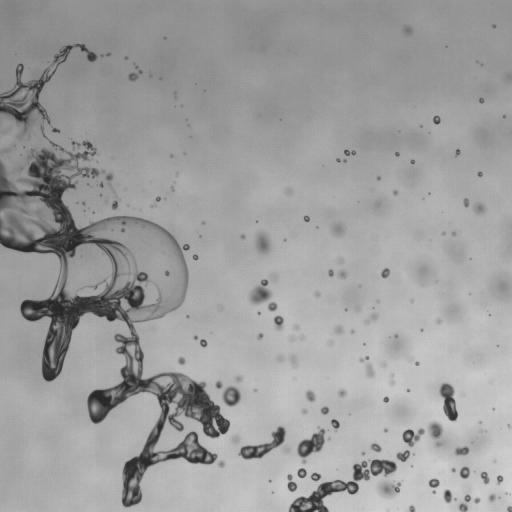droplet: (402, 421, 443, 446), (248, 279, 272, 305), (377, 479, 401, 498), (222, 386, 240, 406), (255, 231, 271, 253), (331, 222, 345, 237), (443, 489, 456, 503), (396, 450, 410, 461), (473, 202, 485, 214), (274, 315, 283, 330), (454, 446, 469, 455), (366, 363, 375, 377), (459, 466, 469, 478), (305, 390, 315, 401), (428, 478, 439, 488), (370, 443, 381, 452), (480, 472, 489, 483), (105, 173, 113, 185), (331, 419, 339, 431), (381, 268, 390, 278), (267, 302, 277, 311), (290, 355, 297, 367), (297, 468, 306, 477), (311, 473, 321, 481), (334, 325, 343, 333), (338, 270, 346, 278), (338, 389, 346, 397), (321, 406, 329, 414), (433, 115, 440, 124), (496, 475, 503, 484), (404, 26, 411, 34), (270, 273, 277, 281), (231, 435, 239, 442), (283, 445, 290, 453), (488, 494, 496, 501), (463, 198, 469, 207), (200, 339, 207, 346), (178, 357, 185, 364), (215, 381, 222, 388), (218, 460, 225, 467), (407, 505, 415, 511), (236, 375, 242, 382), (286, 188, 292, 194), (293, 324, 299, 330), (257, 333, 263, 339), (289, 335, 295, 341), (474, 497, 480, 503), (328, 269, 333, 276), (477, 171, 482, 177), (304, 215, 309, 221), (314, 292, 320, 297), (277, 355, 282, 361), (383, 396, 388, 402), (301, 409, 307, 414), (52, 128, 59, 132), (456, 149, 460, 156), (155, 196, 160, 201), (193, 254, 198, 259), (338, 258, 343, 263), (436, 318, 441, 323), (393, 190, 397, 195), (241, 234, 245, 239), (507, 506, 511, 511), (479, 98, 483, 102), (11, 145, 15, 149), (395, 152, 399, 156), (336, 158, 340, 162), (99, 183, 103, 187), (415, 361, 419, 365), (381, 363, 385, 367), (451, 468, 455, 472), (151, 204, 156, 207), (410, 160, 414, 163), (507, 425, 511, 428), (384, 428, 387, 432), (171, 187, 174, 190), (442, 232, 445, 235), (452, 232, 455, 235), (351, 330, 354, 333), (394, 334, 397, 337), (194, 336, 197, 339), (329, 341, 332, 344), (107, 53, 110, 55), (377, 177, 380, 179), (82, 202, 85, 204), (257, 312, 260, 314), (301, 337, 304, 339), (407, 389, 409, 392), (362, 452, 364, 455), (433, 490, 435, 493), (492, 25, 494, 27), (343, 159, 345, 161), (202, 221, 204, 223)
ligament: (0, 140, 229, 507), (0, 44, 97, 139), (288, 459, 396, 511), (239, 426, 285, 459), (297, 426, 325, 463), (439, 382, 457, 421), (459, 494, 470, 511), (287, 474, 297, 492), (128, 70, 142, 81), (364, 313, 377, 324), (112, 198, 119, 209), (344, 149, 355, 155), (359, 356, 368, 362), (390, 373, 394, 385), (508, 74, 511, 82), (356, 307, 360, 312), (134, 64, 138, 68)
